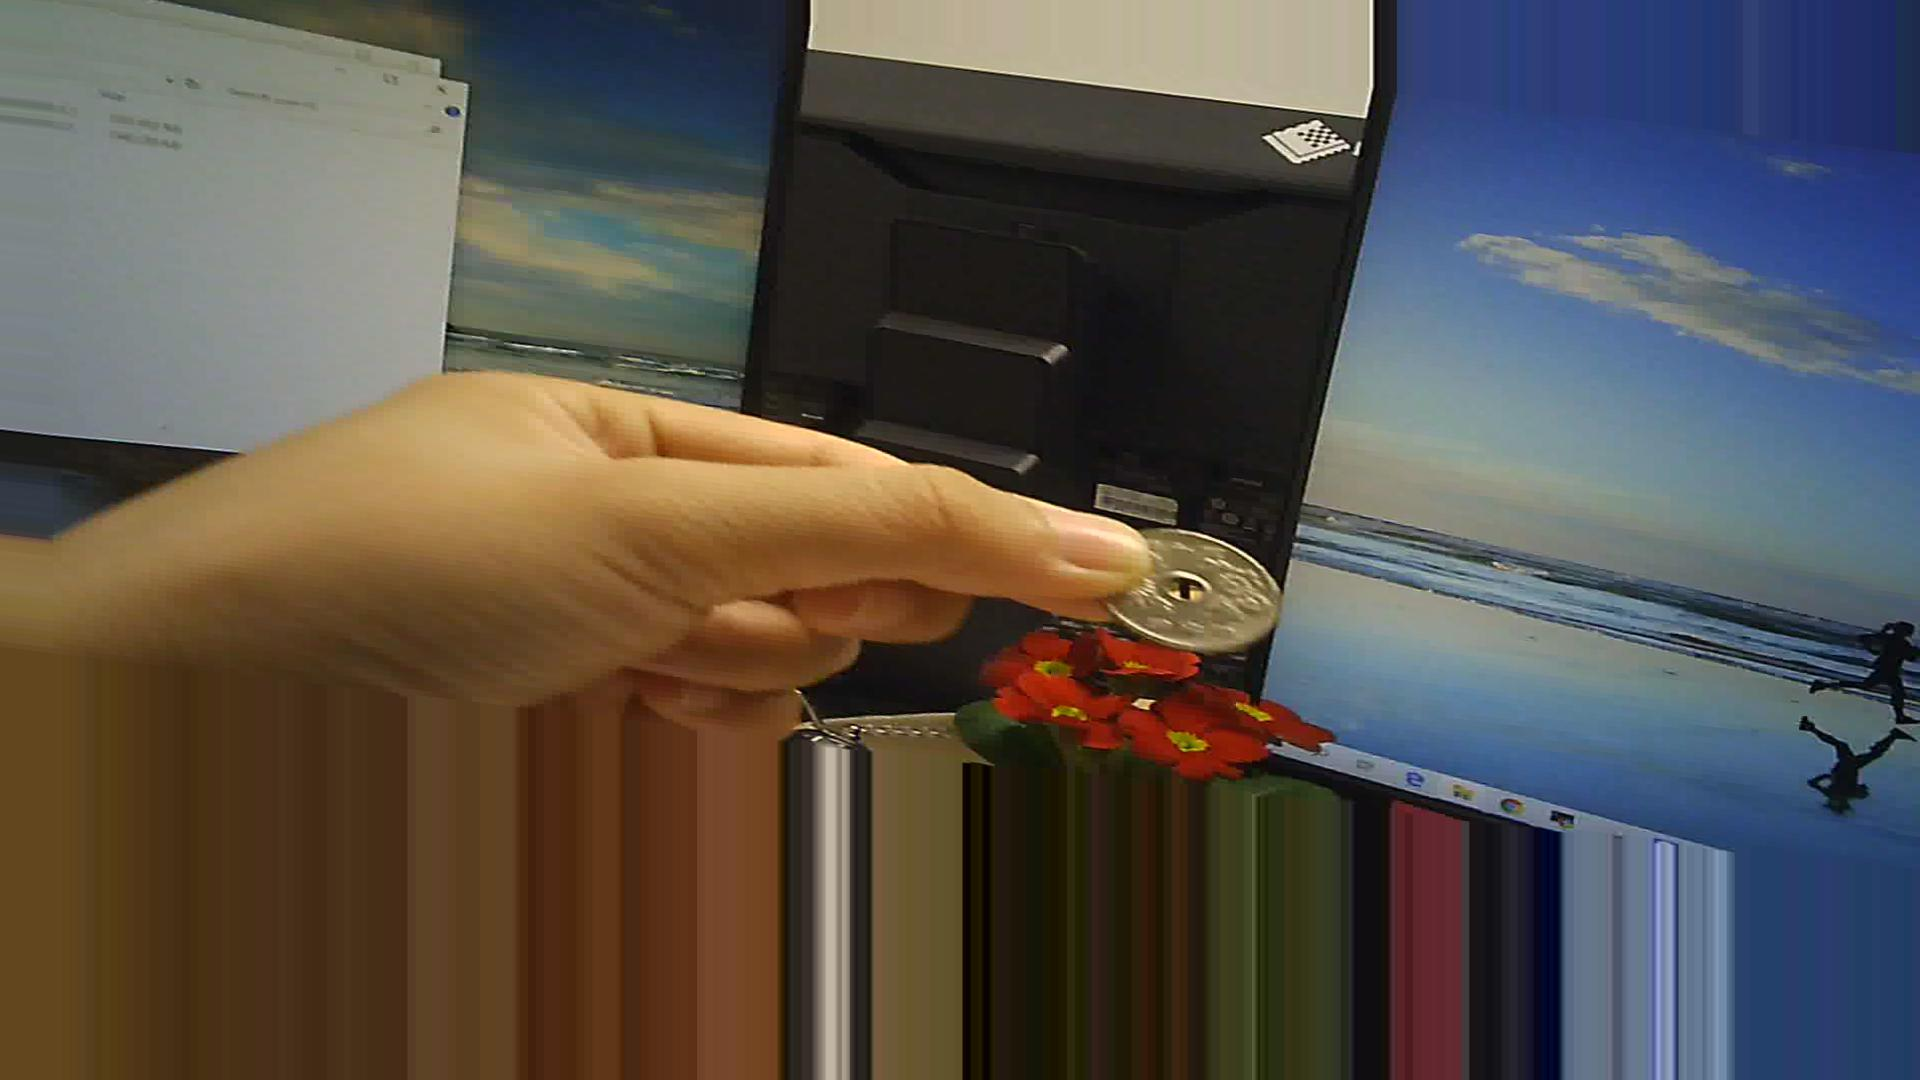50 Yen: (1089, 516, 1303, 665)
